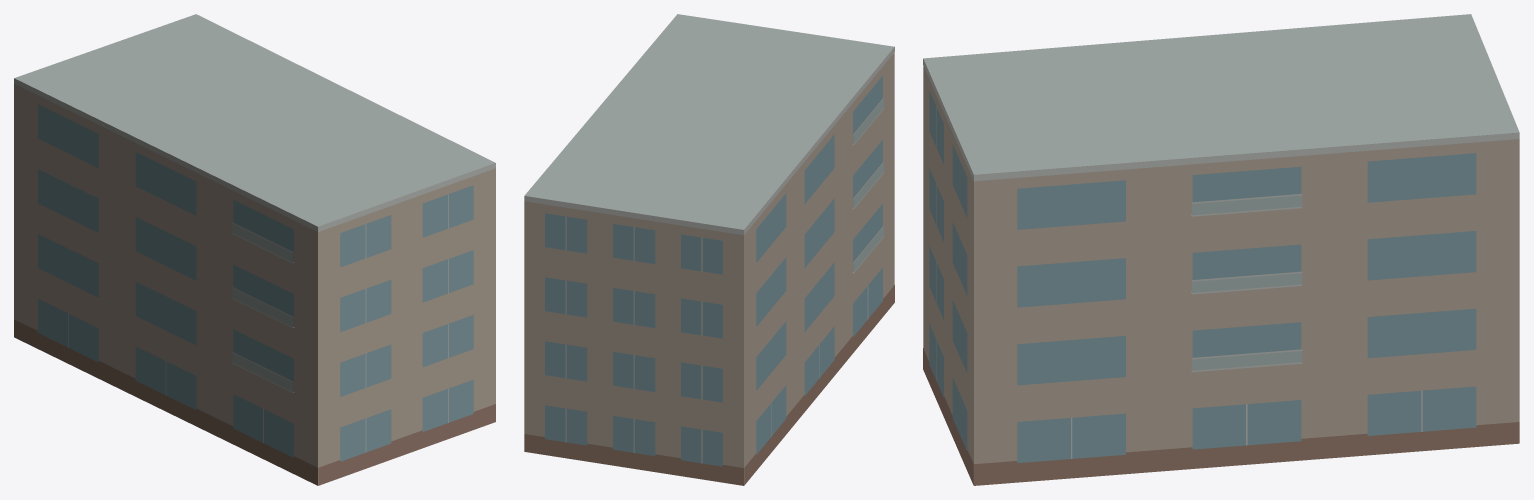
The model's file is survey-upis-32633635.glb.
3 views of the same model, side by side, from view 1: azimuth 30°, elevation 25°; view 2: azimuth 150°, elevation 25°; view 3: azimuth 270°, elevation 25° (orthographic). The views are drawn at different scales.
Visible parts, largest first — view 1: survey-upis-32633635.tmp; view 2: survey-upis-32633635.tmp; view 3: survey-upis-32633635.tmp.
Part boxes in pixels (x1=…): survey-upis-32633635.tmp: x1=14, y1=14, x2=495, y2=485; survey-upis-32633635.tmp: x1=524, y1=14, x2=894, y2=485; survey-upis-32633635.tmp: x1=923, y1=14, x2=1519, y2=485.
Bounding box in the file's own units: 12.98 × 11.7 × 20.35.
